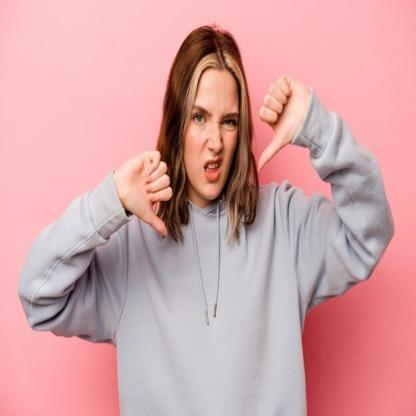thumb_down: (115, 145, 174, 242), (254, 70, 304, 174)
